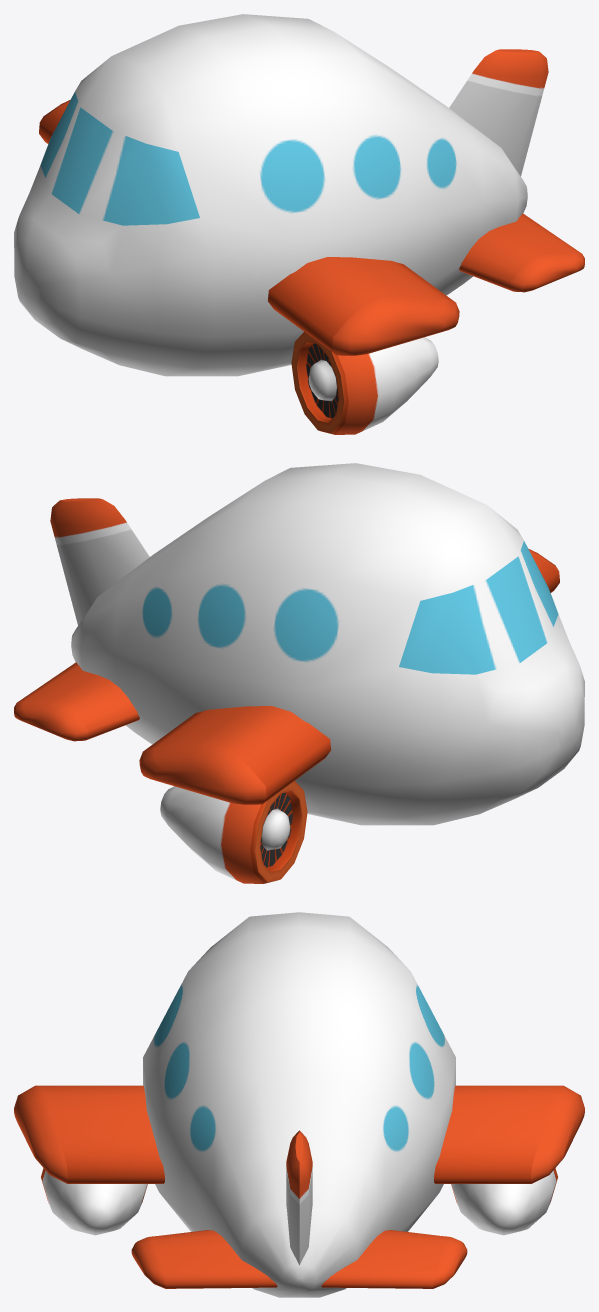
Rendered from airplane.FBX.
3 views of the same model, one above another, from view 1: azimuth 30°, elevation 25°; view 2: azimuth 150°, elevation 25°; view 3: azimuth 270°, elevation 25° (orthographic). The views are drawn at different scales.
Visible parts, largest first — view 1: airplane; view 2: airplane; view 3: airplane.
Boxes of the visible parts, box(x1,y1,x2,y2) form: airplane: box(14, 14, 584, 434); airplane: box(14, 463, 584, 883); airplane: box(14, 912, 584, 1297).
Size of the model in its own units: 45.14 by 26.66 by 47.07.
